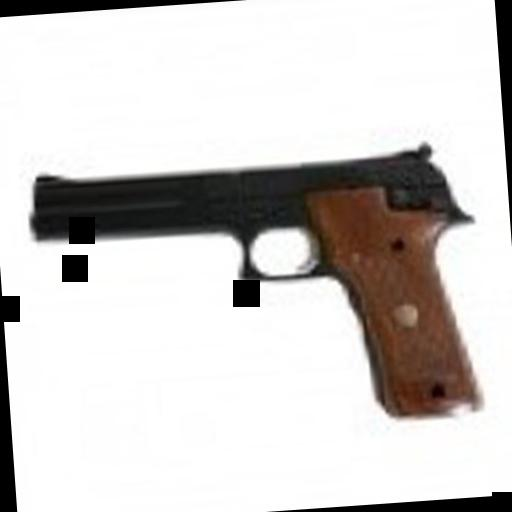Handgun: (20, 140, 488, 454)
